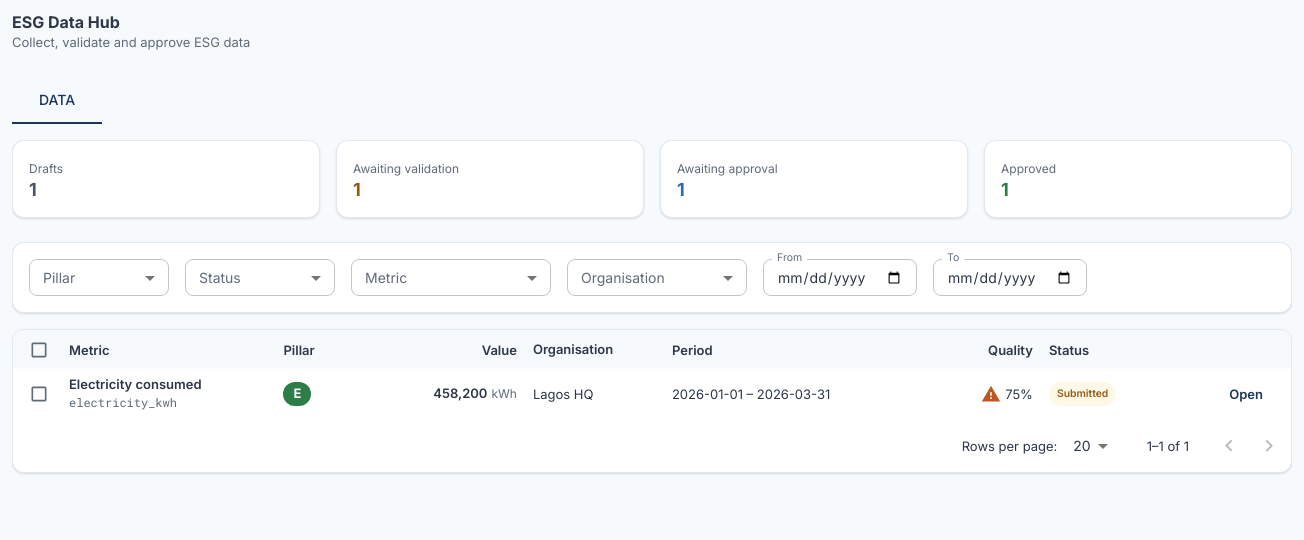
Scenario: DataHubPage list › sends filters to the server
Check: the table named "Data points" is shown, box [13, 330, 1291, 420]
Step 1. Click the 2nd dropdown named "Status" → (260, 278), box [185, 259, 335, 296]
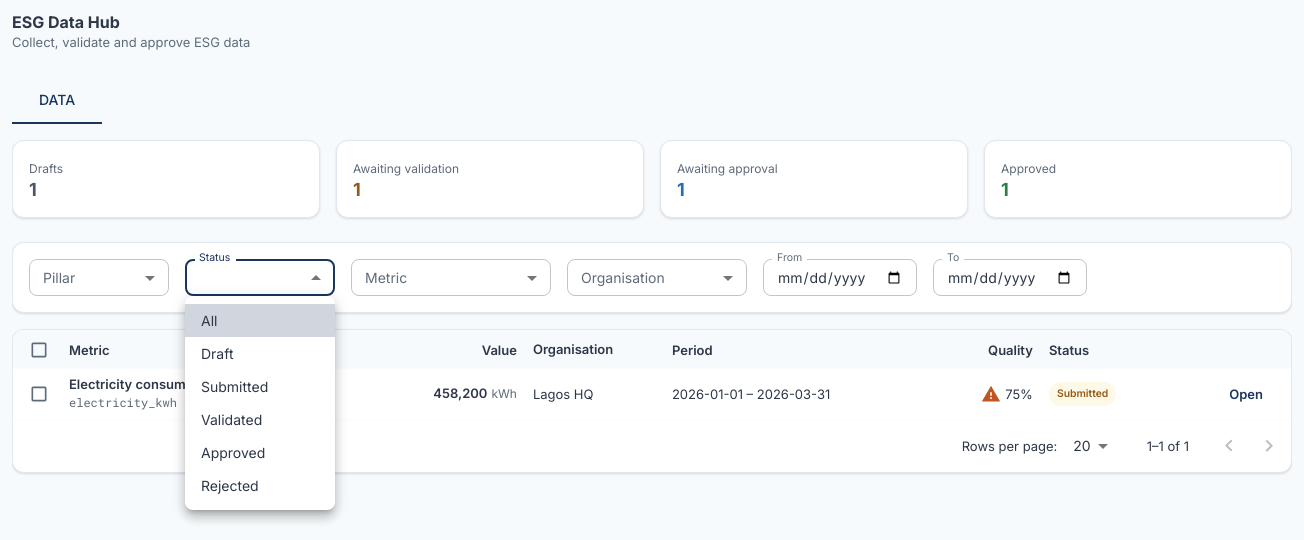
Step 2. Click the option "Approved" → (233, 452), box [201, 444, 265, 461]
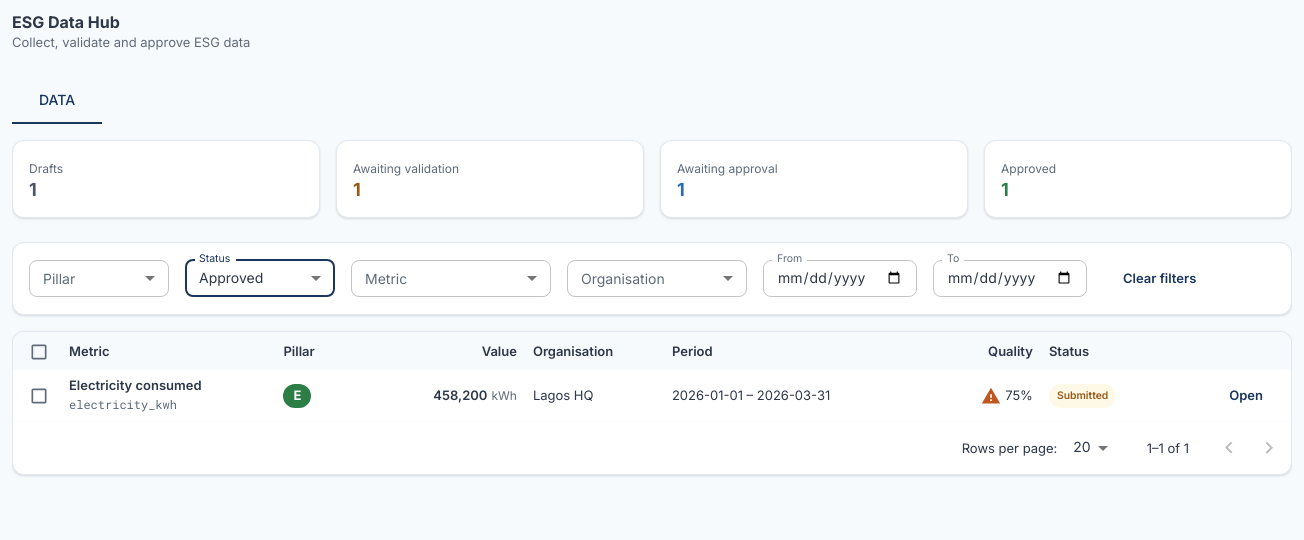
Step 3. Click the 2nd dropdown named "Metric" → (451, 278), box [351, 260, 551, 297]
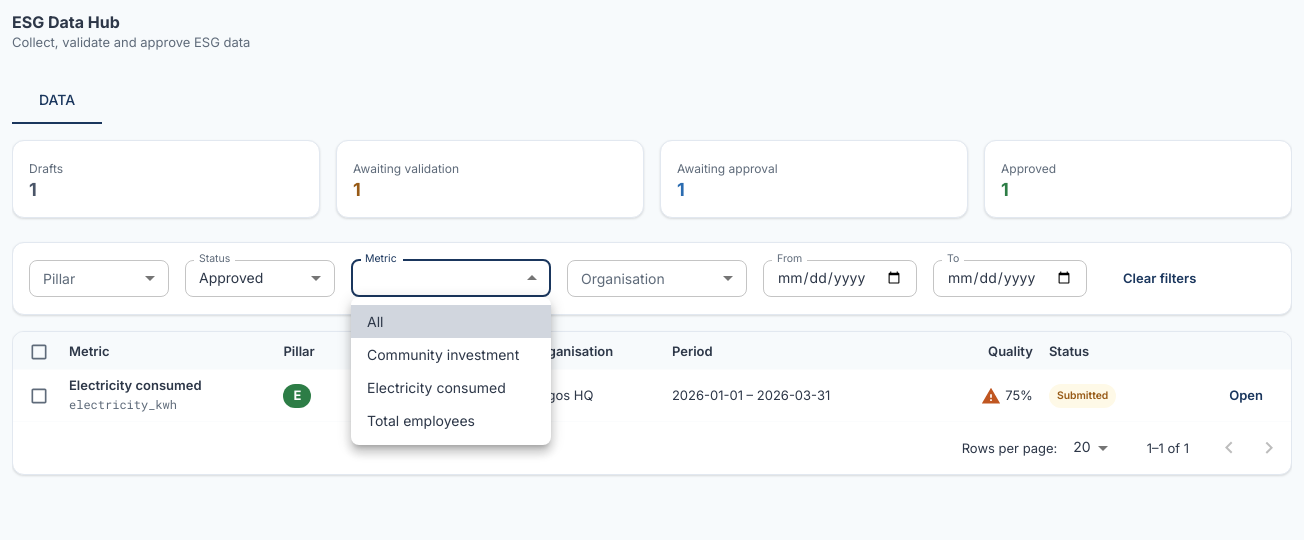
Step 4. Click the option "Total employees" → (421, 420), box [367, 412, 475, 429]
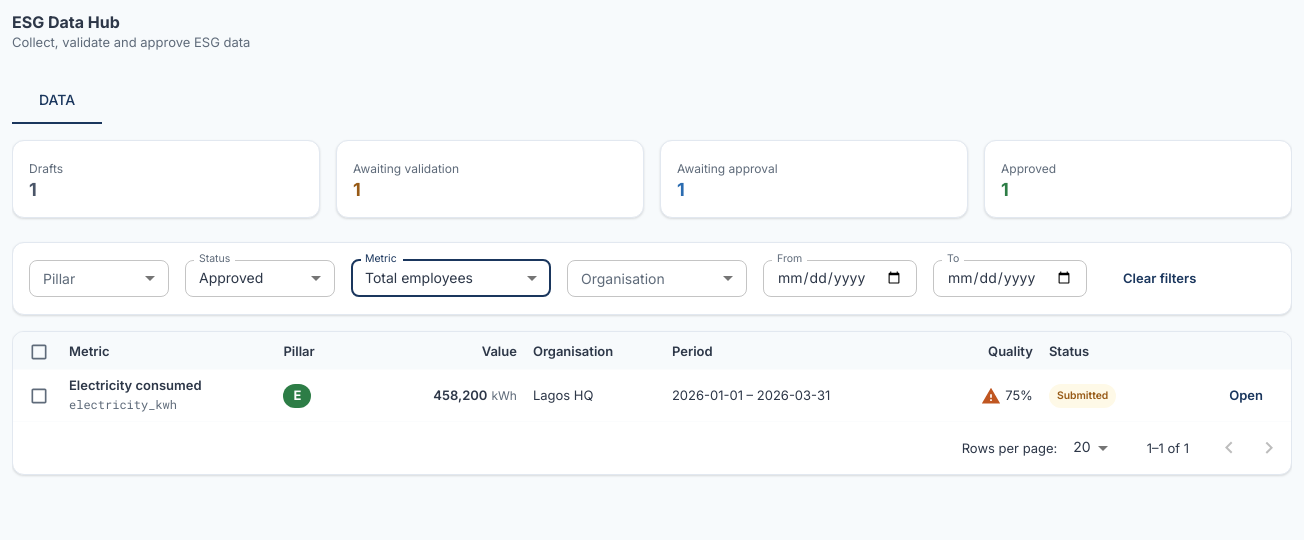
Step 5. Click the button "Clear filters" → (1160, 278), box [1103, 259, 1216, 298]
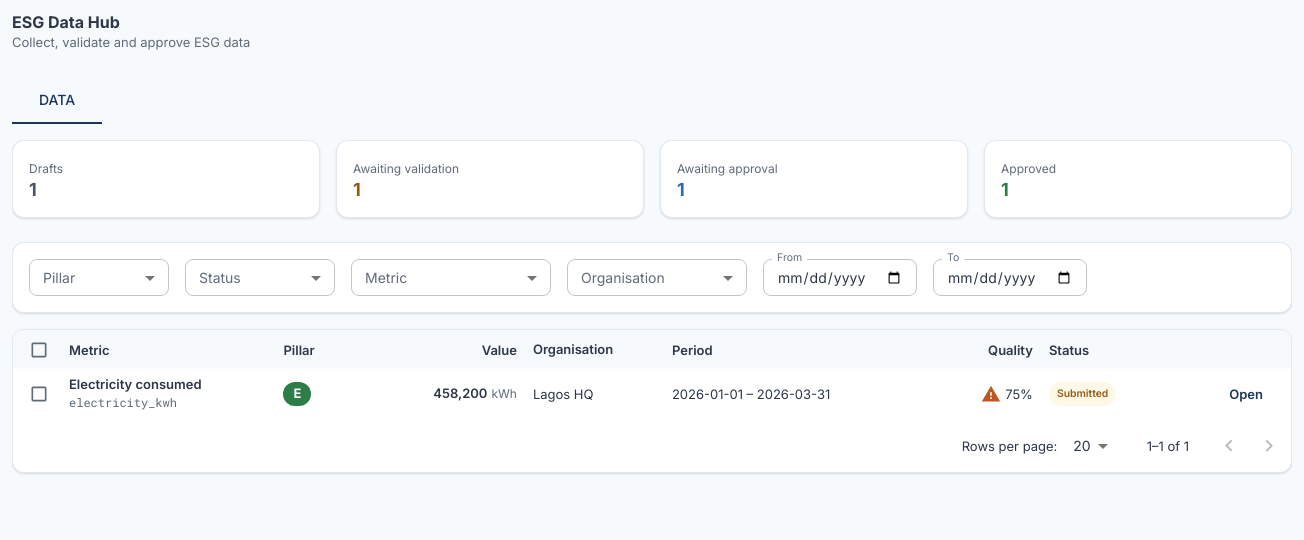
Check: the 2nd dropdown named "Status" does not show "Approved", box [185, 259, 335, 296]
Check: the button "Clear filters" is gone
